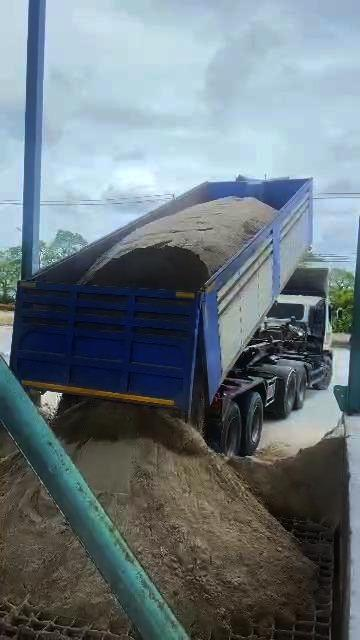sand: (53, 400, 314, 639), (0, 454, 128, 632), (83, 197, 277, 291), (229, 431, 346, 526), (192, 372, 203, 430), (0, 423, 15, 458)
